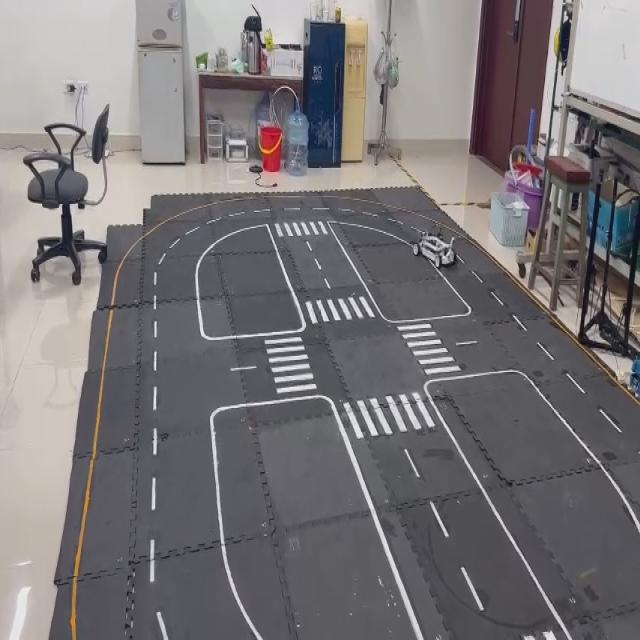SiCo-CAR: (412, 228, 457, 269)
